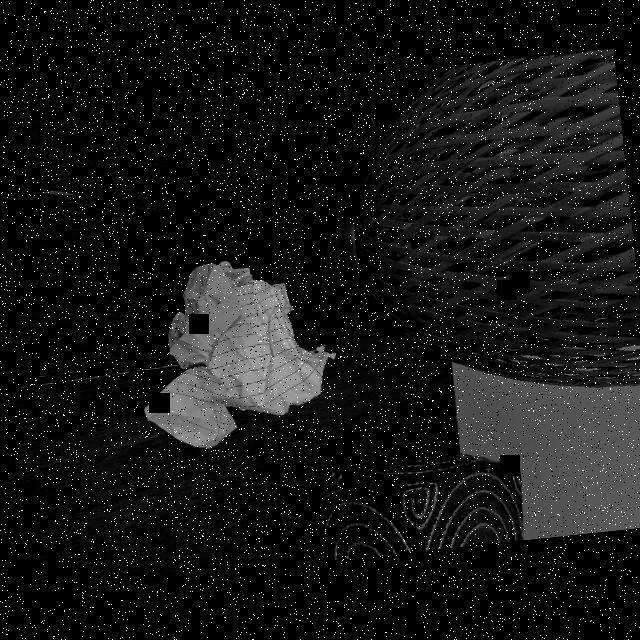scrap_paper: (126, 254, 340, 456)
